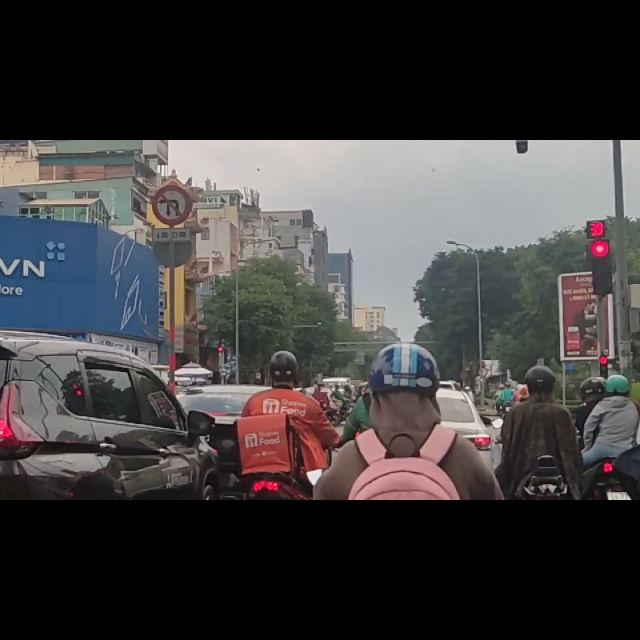bien_cam: (149, 72, 193, 154)
